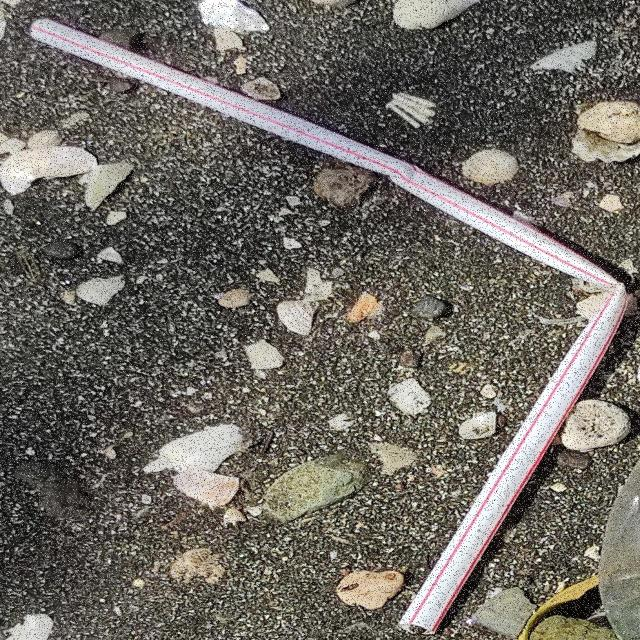plastic_waste: (34, 16, 636, 638)
